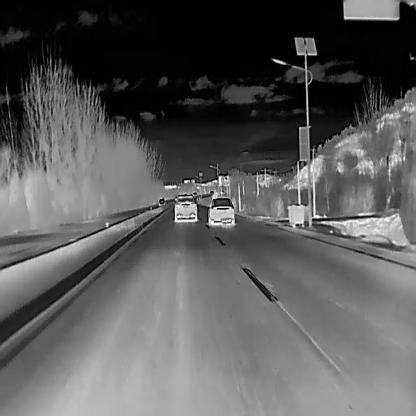car: (207, 196, 235, 226), (173, 193, 197, 221), (158, 196, 164, 206), (191, 191, 197, 194), (209, 190, 213, 193)
